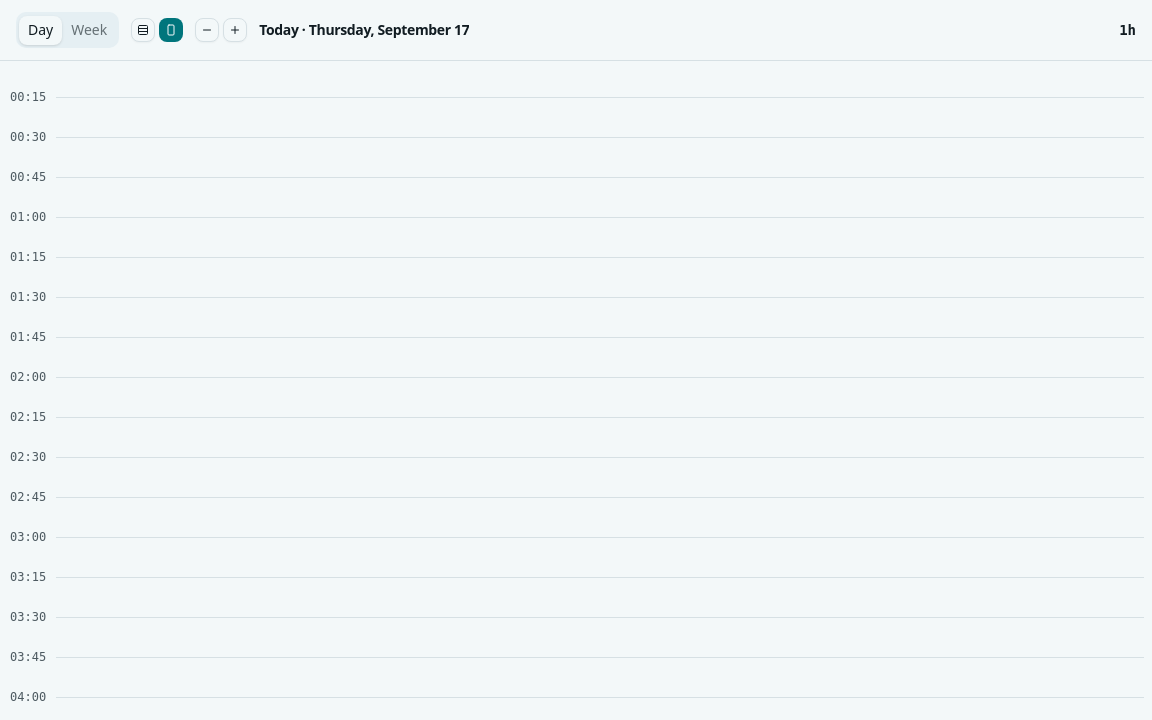
Scenario: Timeline 比例档位持久化 › 点击缩小按钮后档位写入 localStorage；最粗档位按钮禁用
Click the button named "Zoom out".
click(207, 30)  # box [195,18,219,42]
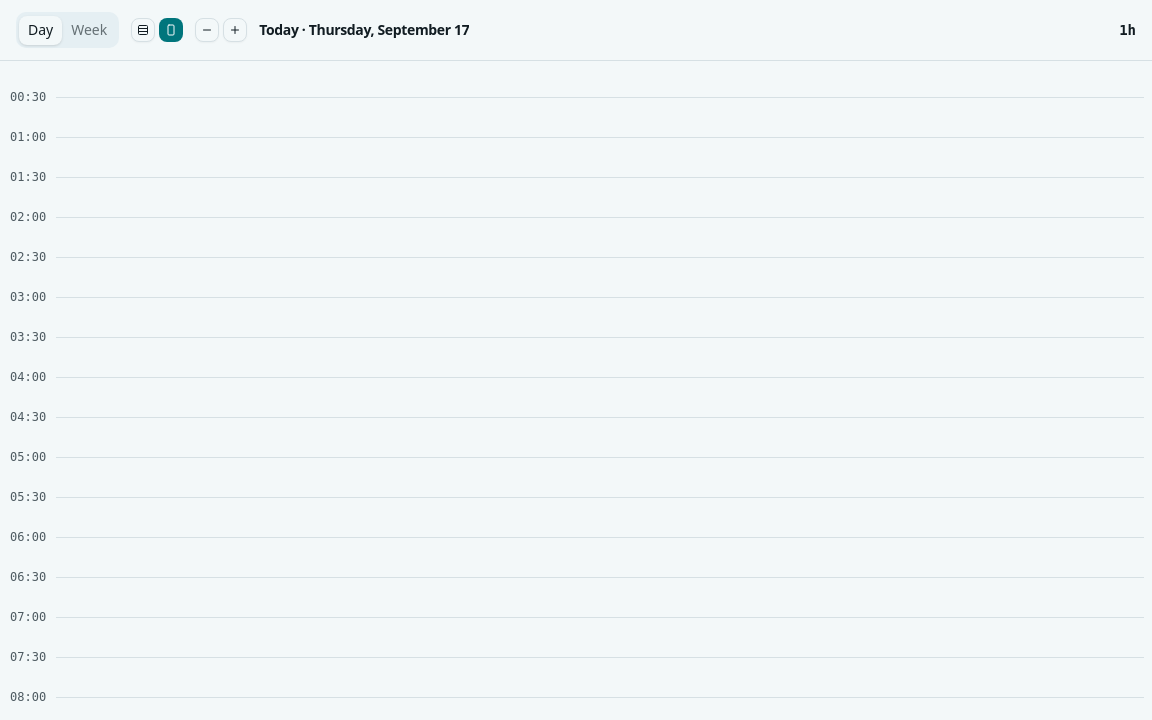
Click the button named "Zoom out".
click(207, 30)  # box [195,18,219,42]
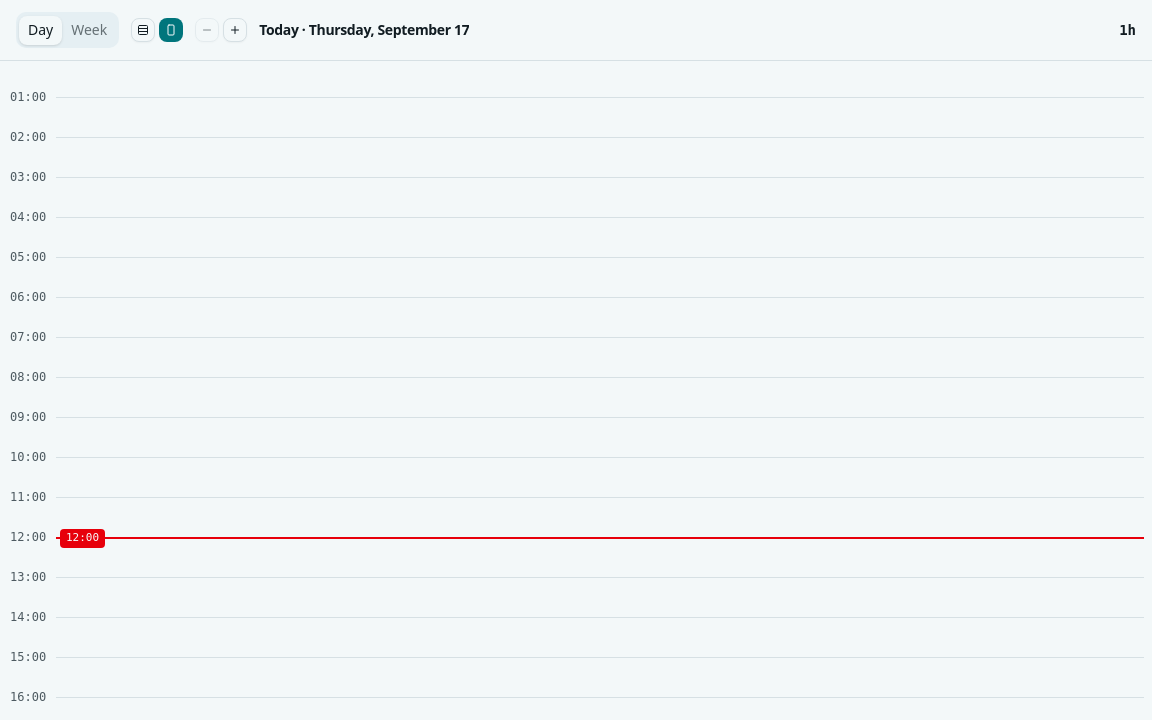
Check: the button named "Zoom out" is disabled, box [195,18,219,42]
